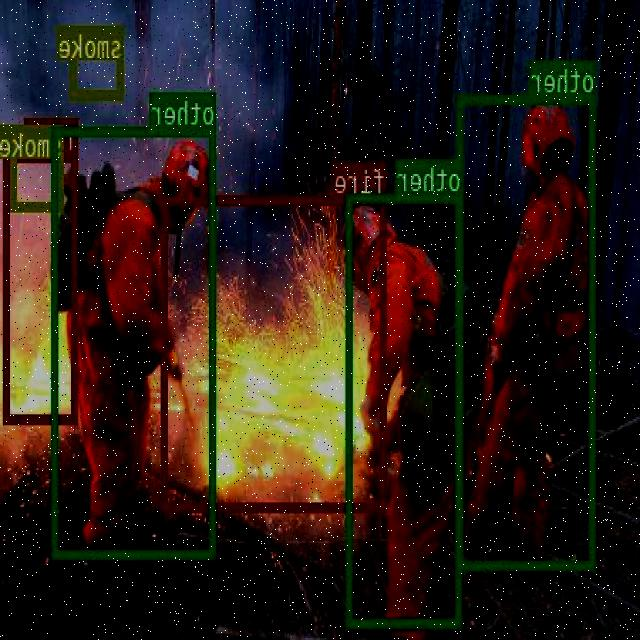fire: (162, 194, 388, 510), (4, 151, 79, 422)
smoke: (12, 123, 65, 210), (71, 25, 124, 97)
